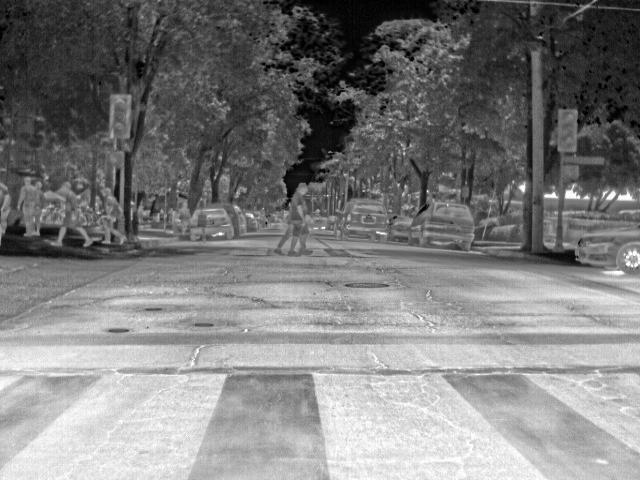car: (572, 220, 639, 276), (410, 200, 475, 252), (338, 197, 391, 239), (191, 205, 235, 241), (389, 215, 415, 243), (234, 204, 249, 234)
person: (46, 182, 98, 247), (286, 180, 316, 258), (97, 186, 130, 246), (12, 176, 40, 237), (176, 199, 192, 239)
